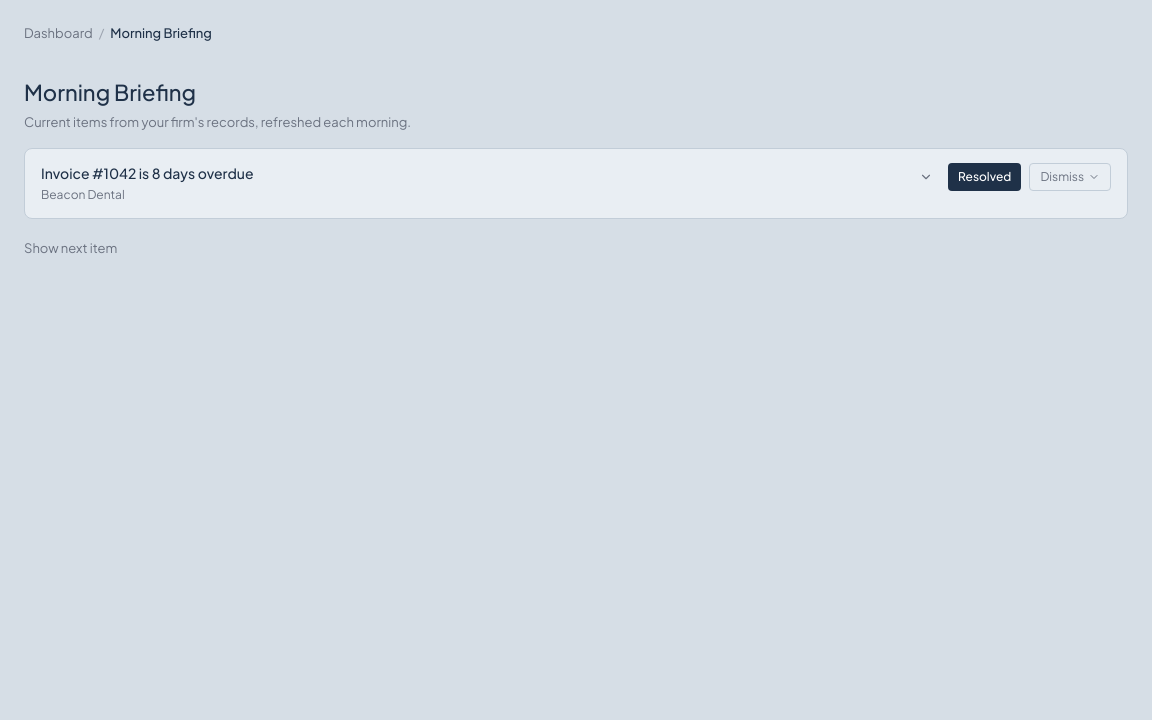
Per-row expand/collapse with real ten-field detail panel › expanding a row shows the real ten-field detail panel
The width and height of the screenshot is (1152, 720).
Check: the link "Invoice #1042 is 8 days overdue" is shown, box [41,164,254,182]
Check: the text "Invoice #1042, balance $500.00" is not shown
Click the button named "expand detail": (926, 177) [912,163,940,191]
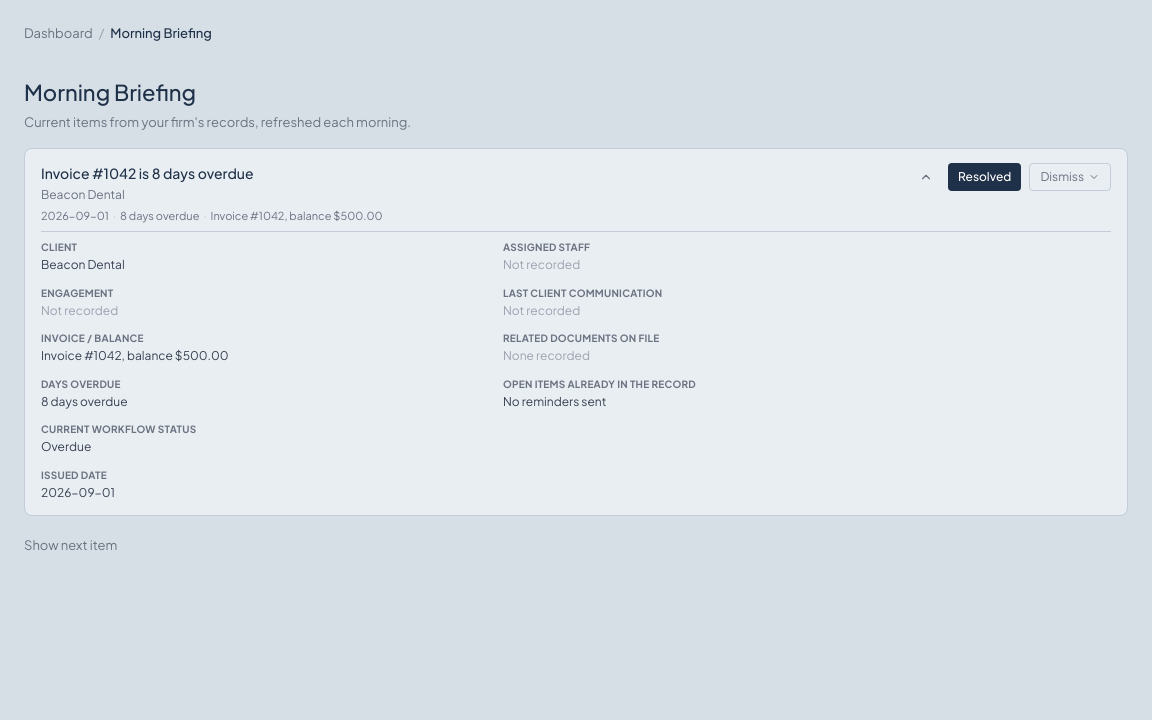
Check: the text "Overdue" is shown, box [41,439,91,454]
